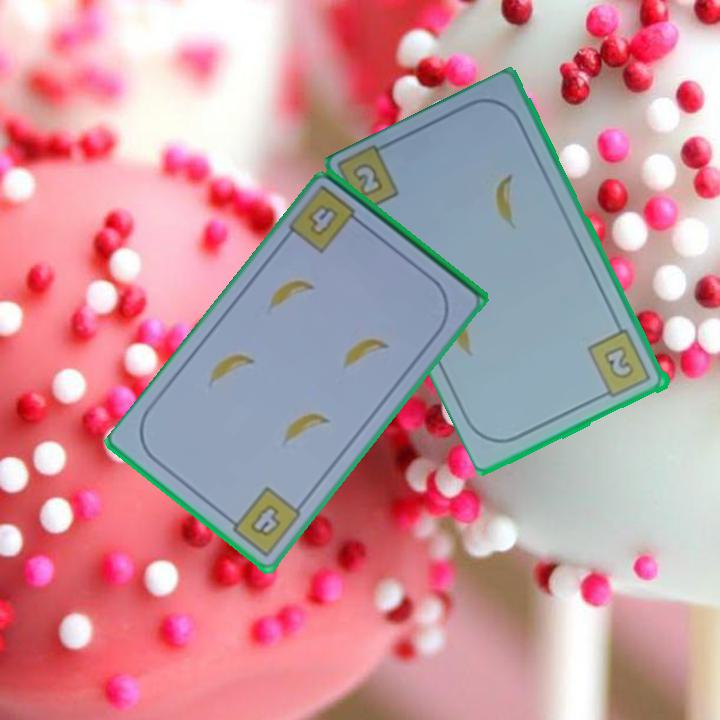2b: (584, 326, 655, 402), (349, 159, 387, 200)
4b: (222, 483, 305, 560), (304, 201, 342, 240)
